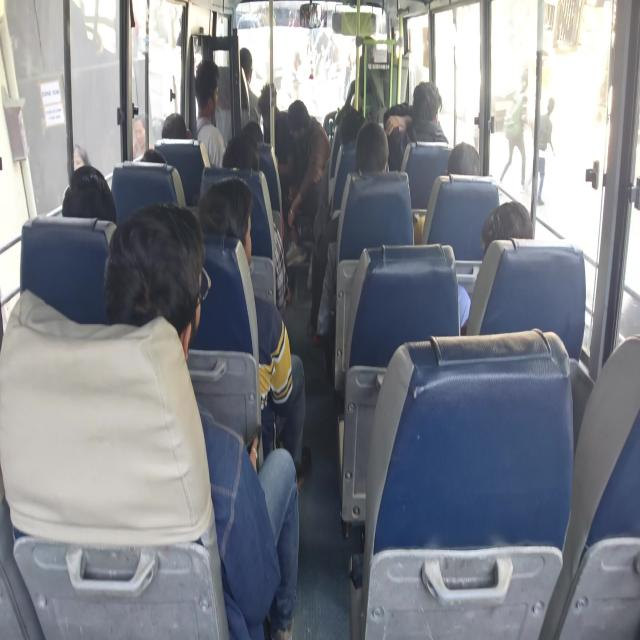person: (118, 221, 215, 329), (206, 187, 272, 289), (59, 159, 131, 219), (472, 200, 544, 260), (66, 165, 113, 219), (359, 135, 399, 197), (411, 79, 439, 137), (446, 141, 486, 177), (357, 36, 386, 73), (239, 41, 261, 84), (229, 137, 255, 172), (288, 100, 310, 140), (342, 108, 368, 138), (261, 88, 282, 124), (161, 118, 191, 143), (140, 146, 168, 171), (195, 59, 214, 91)
